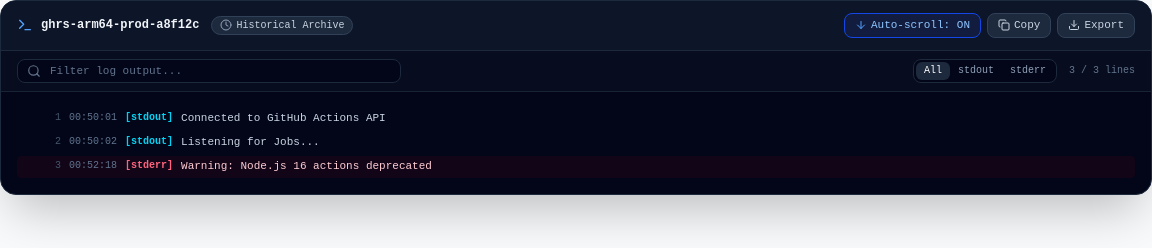
LogTerminal › filters logs by search query
Type "deprecated" into the field with placeholder "Filter log output...". click: (209, 71)
box: left=17, top=59, right=401, bottom=83
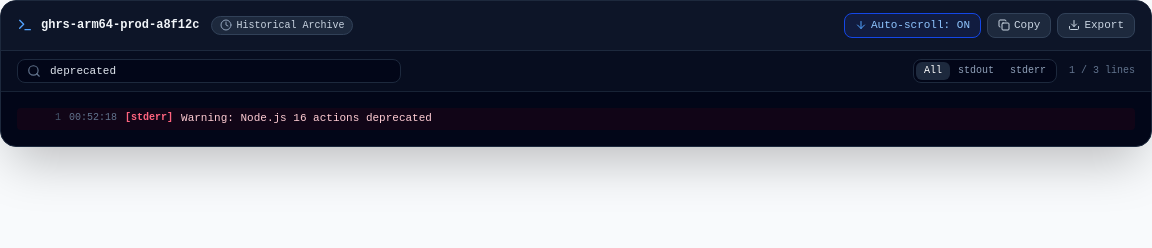
Now the text "Connected to GitHub Actions API" is gone
Now the text "Warning: Node.js 16 actions deprecated" is shown, box left=181, top=112, right=432, bottom=124
